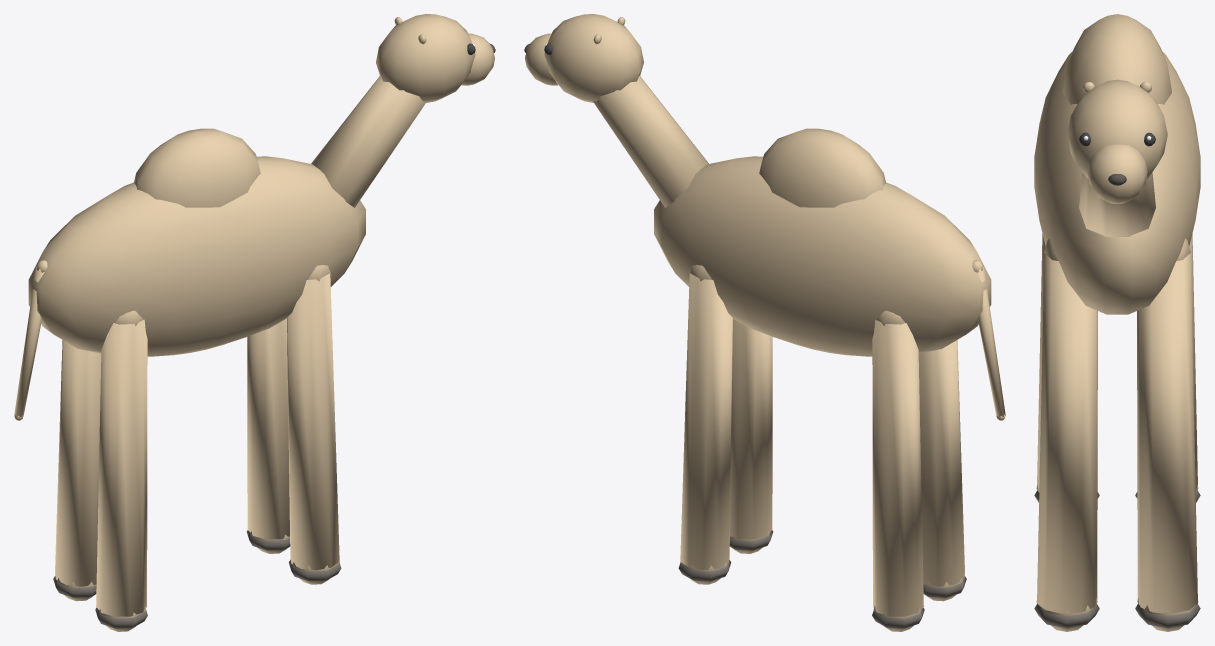
The model's file is dromedary.glb.
The picture shows the model from 3 angles, left to right: view 1: azimuth 30°, elevation 25°; view 2: azimuth 150°, elevation 25°; view 3: azimuth 270°, elevation 25°; orthographic projection. The views are drawn at different scales.
Parts seen in each view (by area): view 1: e, e.016, e.025; view 2: e, e.016, e.025; view 3: e, e.016.
Boxes of the visible parts, bbox=[...] form: e: bbox=[28, 76, 426, 631]; e.016: bbox=[376, 14, 495, 102]; e.025: bbox=[14, 260, 47, 420]; e: bbox=[593, 76, 991, 631]; e.016: bbox=[524, 14, 643, 102]; e.025: bbox=[972, 260, 1005, 420]; e: bbox=[1034, 14, 1200, 631]; e.016: bbox=[1067, 79, 1167, 204].
Bounding box in the file's own units: 1.58 × 1.63 × 0.396.
